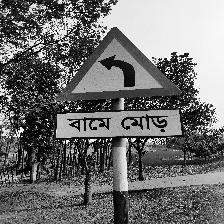Left-Turn: (54, 27, 186, 140)
